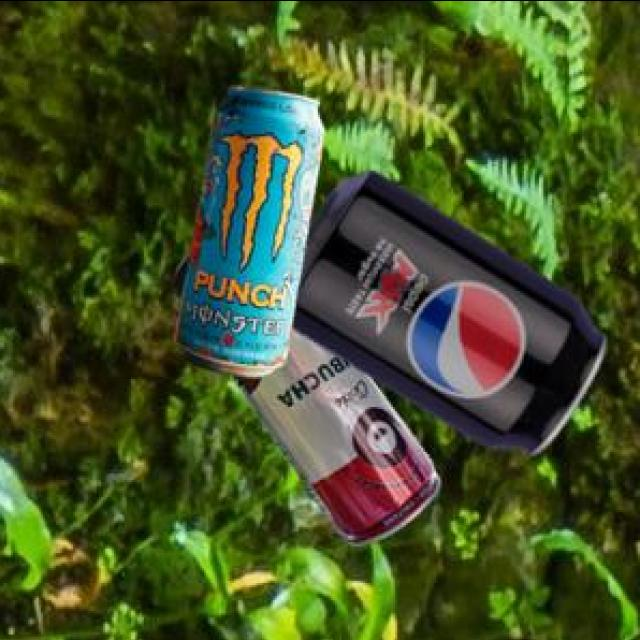logam: (295, 166, 609, 450), (177, 246, 443, 542), (179, 83, 328, 373)
